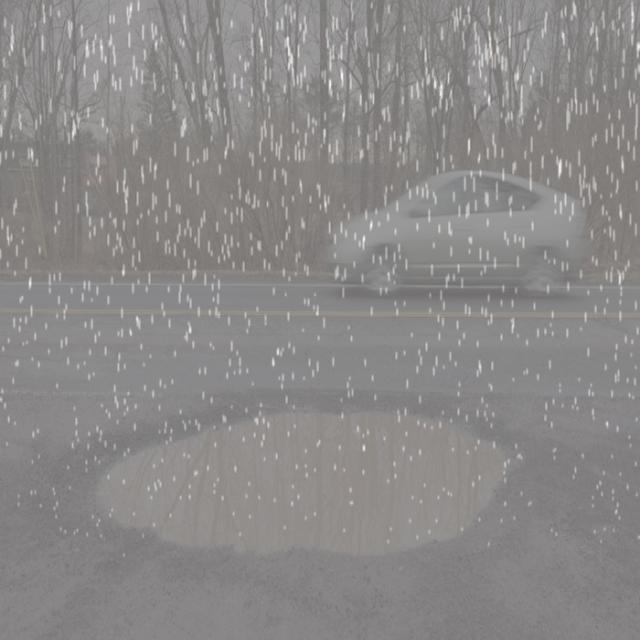Pothole: (77, 374, 534, 570)
